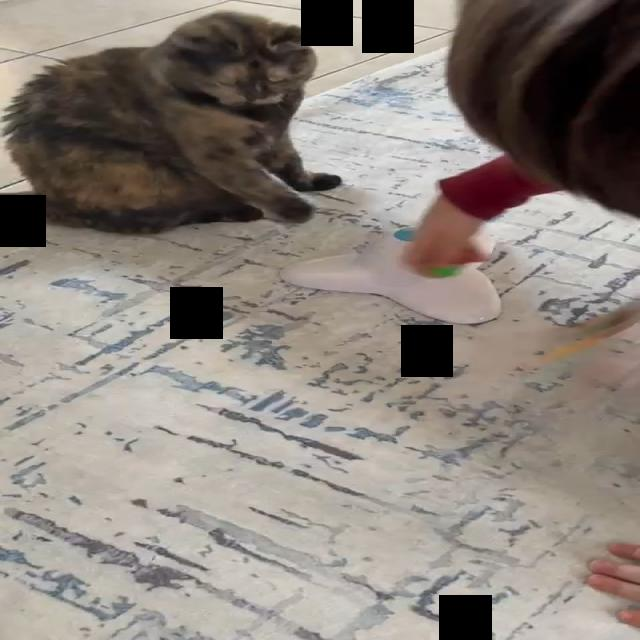authorized: (0, 10, 341, 235)
